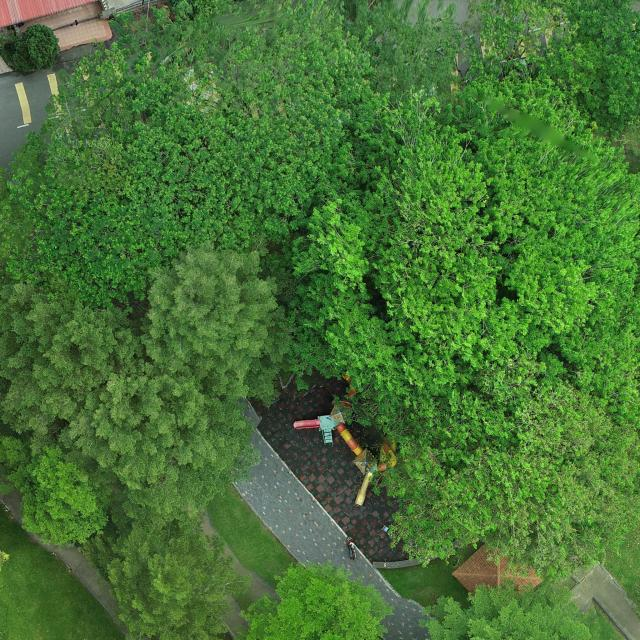Tree: (289, 68, 640, 462), (0, 0, 396, 309), (368, 382, 640, 582), (59, 371, 263, 529), (138, 242, 294, 407), (0, 281, 143, 434), (106, 507, 255, 640), (544, 0, 640, 138), (418, 577, 614, 640), (238, 562, 394, 640), (7, 443, 114, 545), (0, 24, 60, 75)
